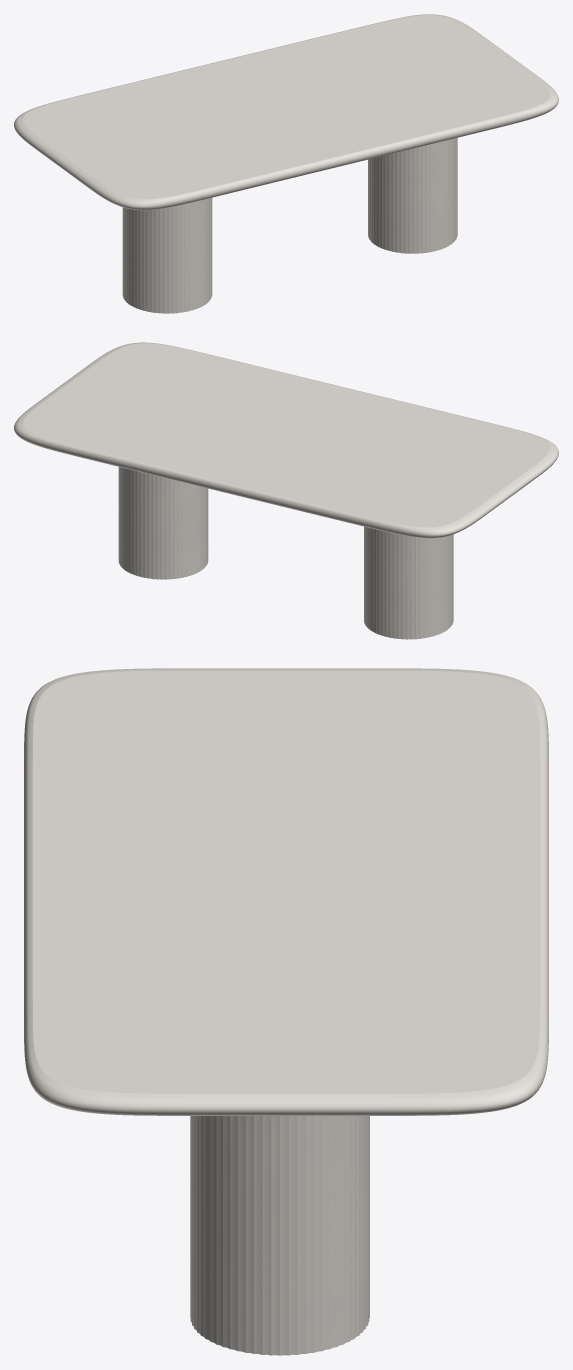
Rendered from pearlwhite_softrecta_round_ripplesecond.glb.
3 views of the same model, one above another, from view 1: azimuth 30°, elevation 25°; view 2: azimuth 150°, elevation 25°; view 3: azimuth 270°, elevation 25° (orthographic). The views are drawn at different scales.
Visible parts, largest first — view 1: round_softrecta, ripplesecond; view 2: round_softrecta, ripplesecond; view 3: round_softrecta, ripplesecond.
Part boxes in pixels (box(x1,y1,x2,y2)): round_softrecta: box(14, 14, 558, 210); ripplesecond: box(122, 138, 457, 313); round_softrecta: box(14, 342, 558, 538); ripplesecond: box(118, 467, 453, 639); round_softrecta: box(24, 668, 548, 1115); ripplesecond: box(190, 1116, 369, 1355).
Bounding box in the file's own units: 7.5 × 2.51 × 3.8.
Materials: 1 (1 with a texture image).
